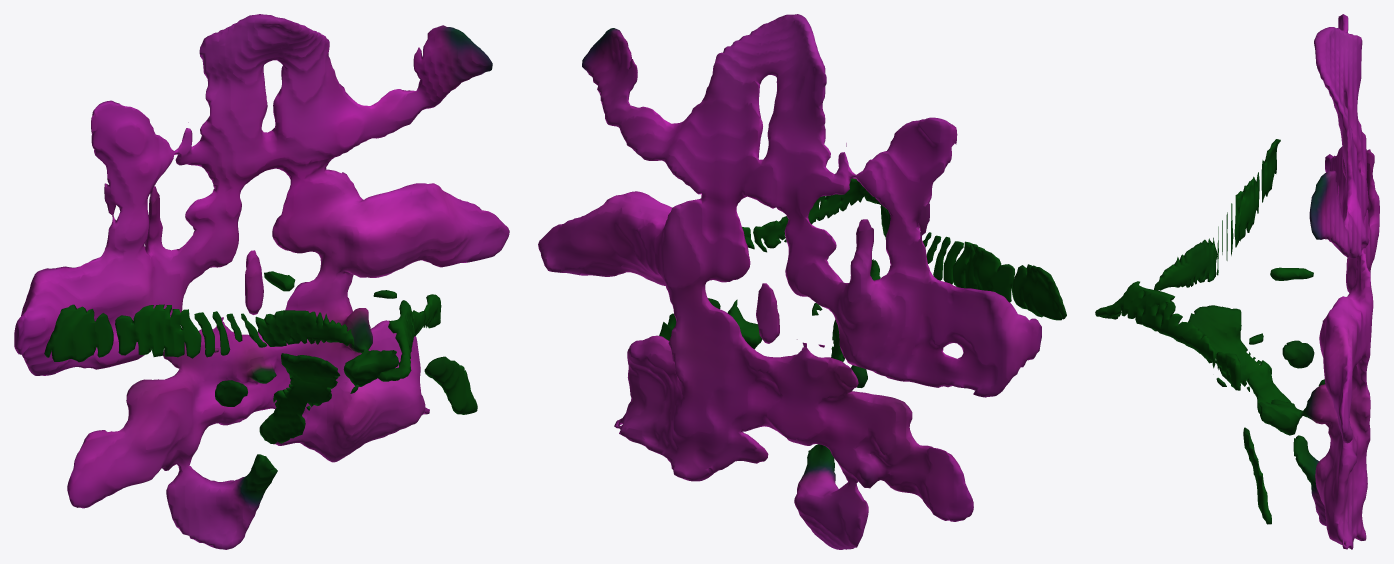
Rendered from Flower_1.FBX.
The picture shows the model from 3 angles, left to right: view 1: azimuth 30°, elevation 25°; view 2: azimuth 150°, elevation 25°; view 3: azimuth 270°, elevation 25°; orthographic projection. The views are drawn at different scales.
Parts seen in each view (by area): view 1: plyFile; view 2: plyFile; view 3: plyFile.
Part boxes in pixels (x1,y1,x2,y2): plyFile: [14, 14, 509, 549]; plyFile: [538, 14, 1066, 549]; plyFile: [1095, 14, 1379, 549].
Bounding box in the file's own units: 195 × 196 × 98.75.
